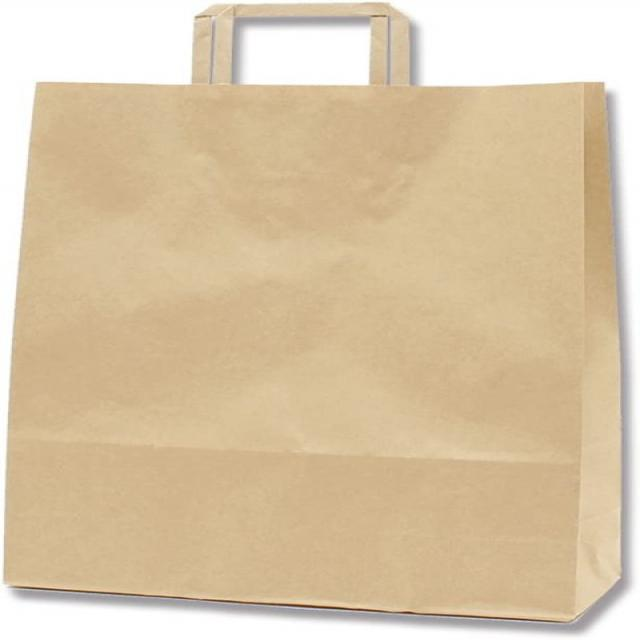paper bag: (0, 0, 638, 627)
